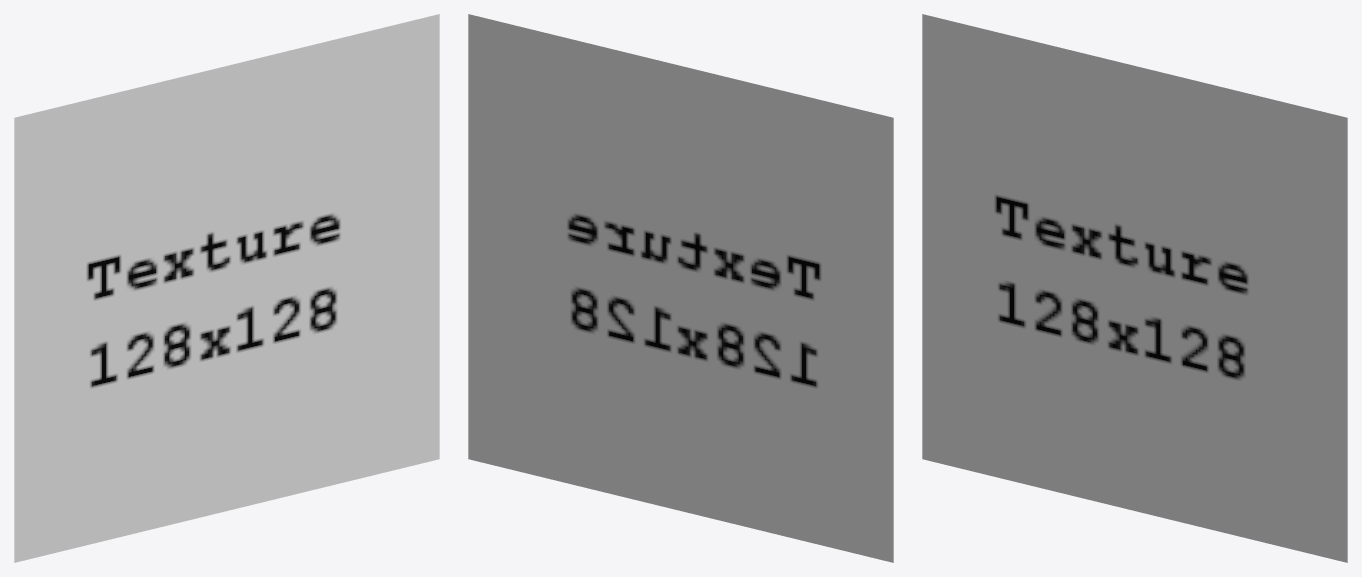
The model's file is unitSquare11x2_triangleStrip.glb.
3 views of the same model, side by side, from view 1: azimuth 30°, elevation 25°; view 2: azimuth 150°, elevation 25°; view 3: azimuth 330°, elevation 25° (orthographic).
Size of the model in its own units: 1 by 1 by 0.
1 material, 1 textured.
